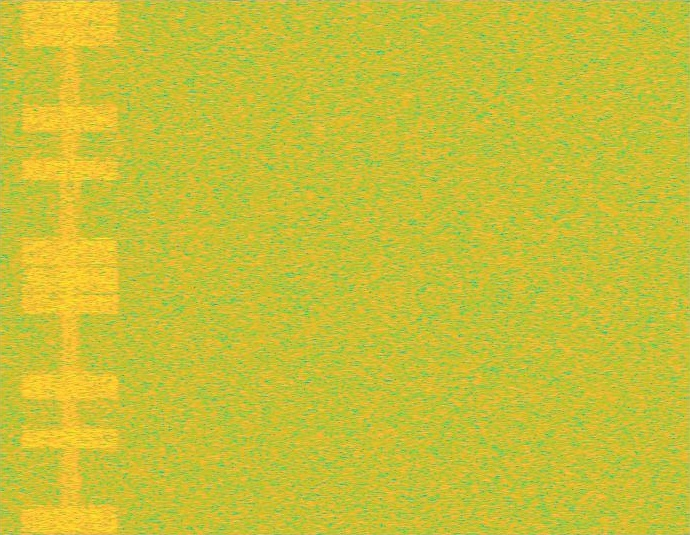DSSS: (58, 0, 82, 534)
LTE: (18, 0, 122, 534)
Radar: (96, 0, 110, 534)
